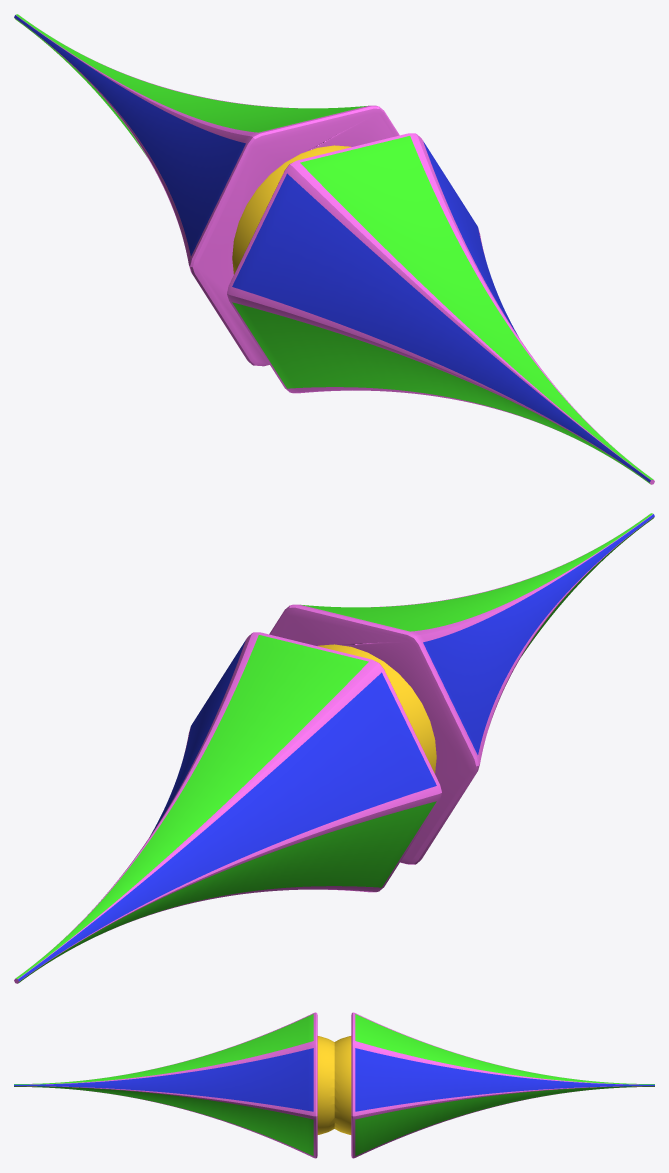
The model's file is Velox Drone.fbx.
3 renders of one model, top to bottom at view 1: azimuth 30°, elevation 25°; view 2: azimuth 150°, elevation 25°; view 3: azimuth 270°, elevation 25°, orthographic. The views are drawn at different scales.
Parts seen in each view (by area): view 1: Drone Hull; view 2: Drone Hull; view 3: Drone Hull.
Boxes of the visible parts, left/top/right/bottom form: Drone Hull: left=14, top=14, right=654, bottom=484; Drone Hull: left=14, top=513, right=654, bottom=983; Drone Hull: left=14, top=1012, right=654, bottom=1158.
Bounding box in the file's own units: 17.39 × 15.34 × 76.
